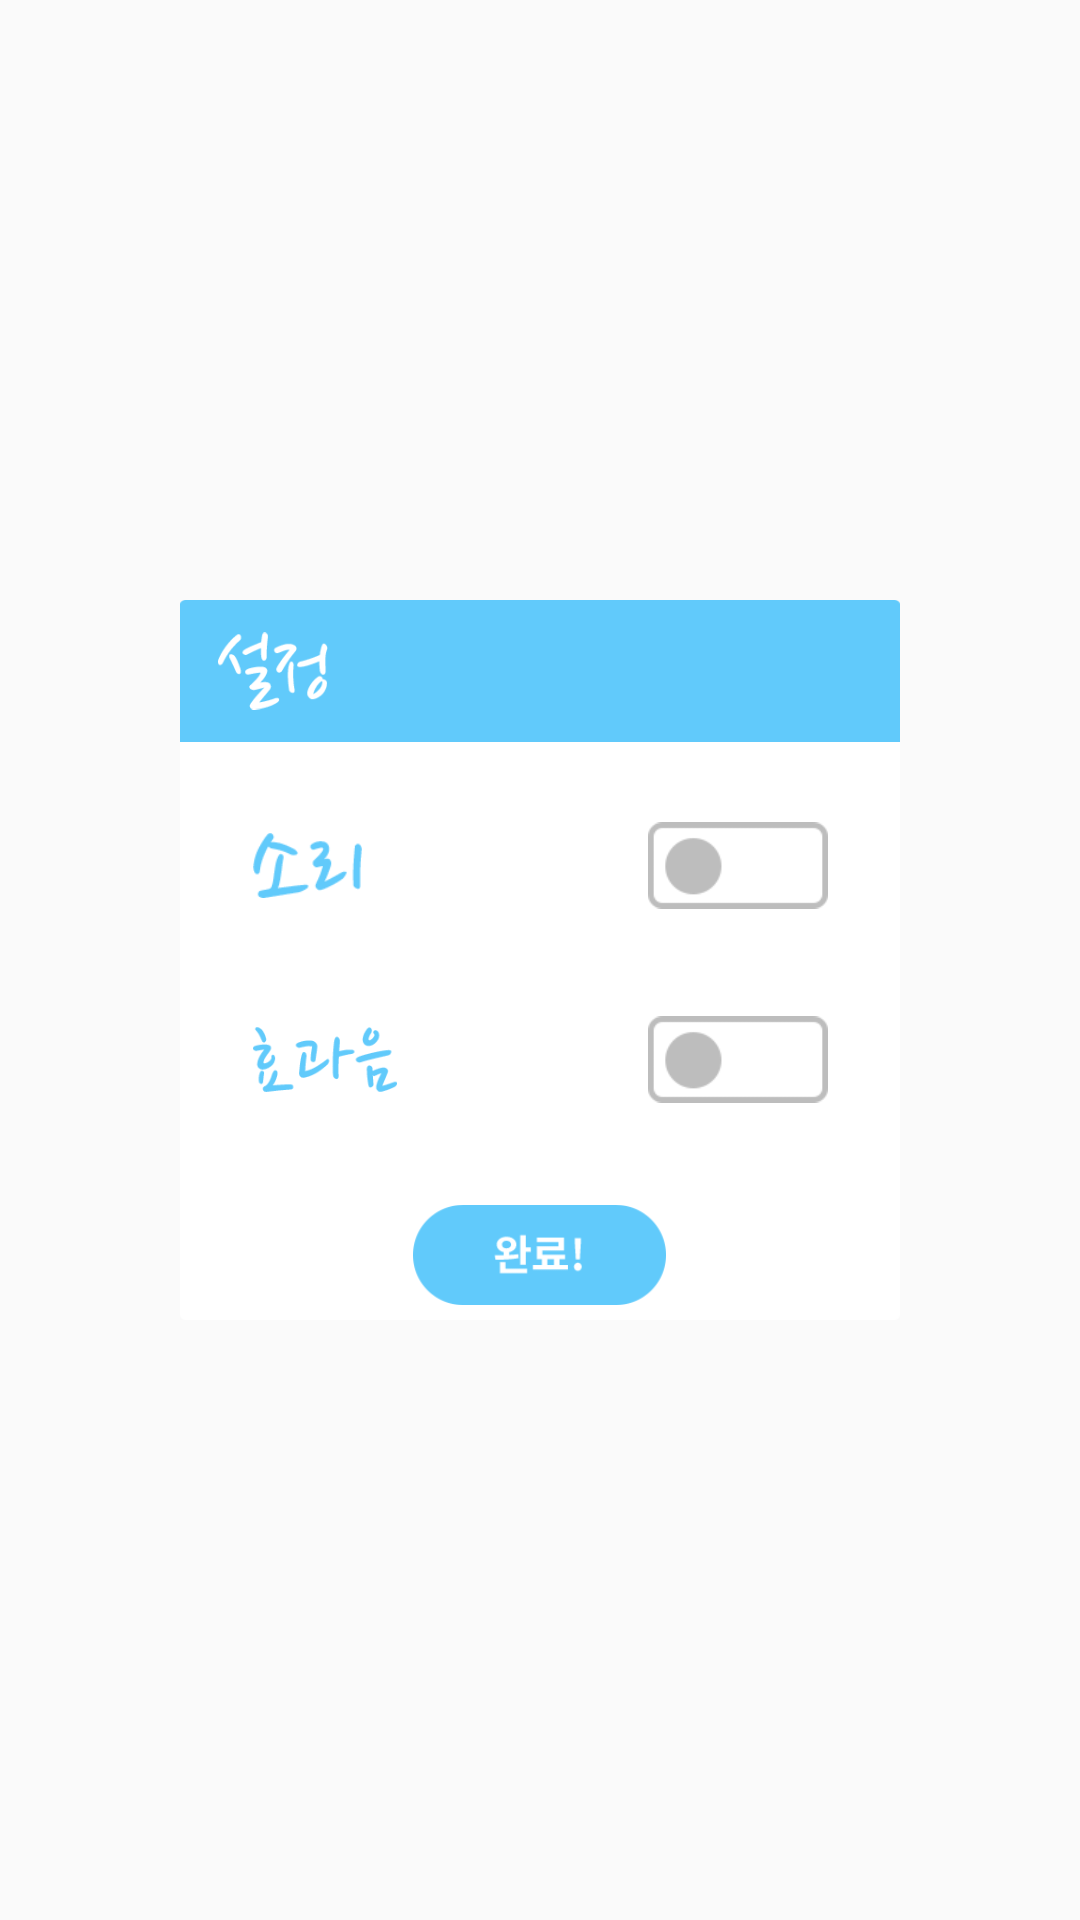

Screen size 1080w x 1920h. Icon name, then its box in pixels as [x1,y1,x2,y2]:
off: [648,822,828,909], [648,1016,828,1103]
